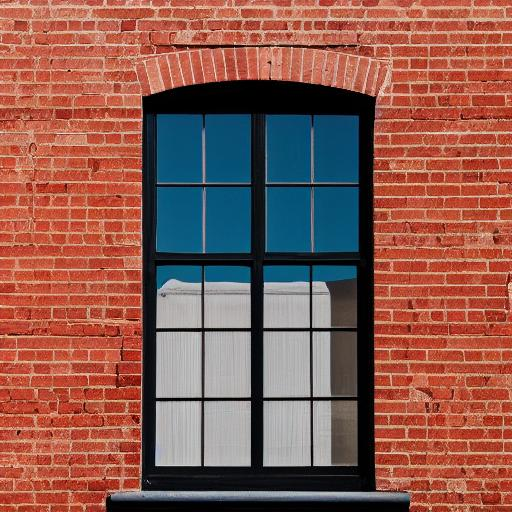Window: (104, 50, 425, 512)
